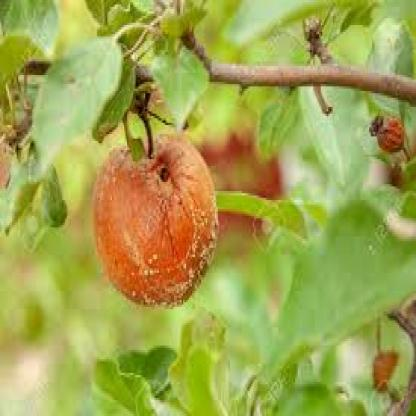damaged_apple: (96, 139, 216, 302)
